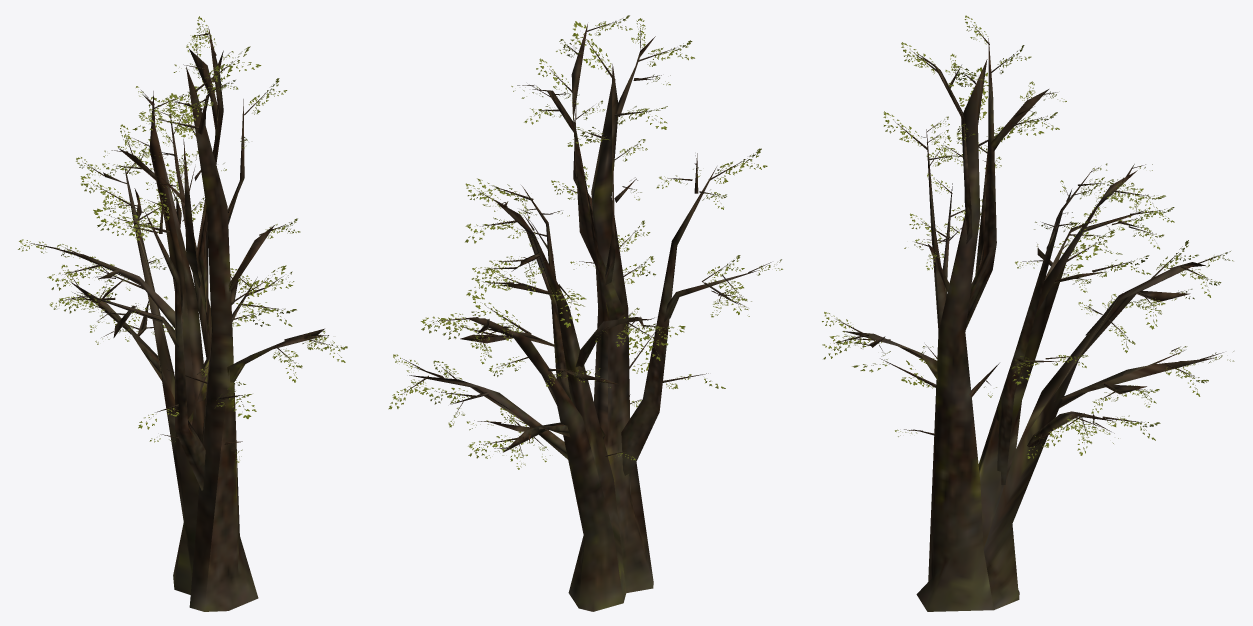
File: Tree 3.FBX
3 views of the same model, side by side, from view 1: azimuth 30°, elevation 25°; view 2: azimuth 150°, elevation 25°; view 3: azimuth 270°, elevation 25° (orthographic). The views are drawn at different scales.
Visible parts, largest first — view 1: Tree 3; view 2: Tree 3; view 3: Tree 3.
Boxes of the visible parts, bbox=[...] form: Tree 3: bbox=[18, 16, 347, 611]; Tree 3: bbox=[388, 15, 782, 611]; Tree 3: bbox=[822, 15, 1234, 611].
Bounding box in the file's own units: 1144 × 2009 × 1344.
